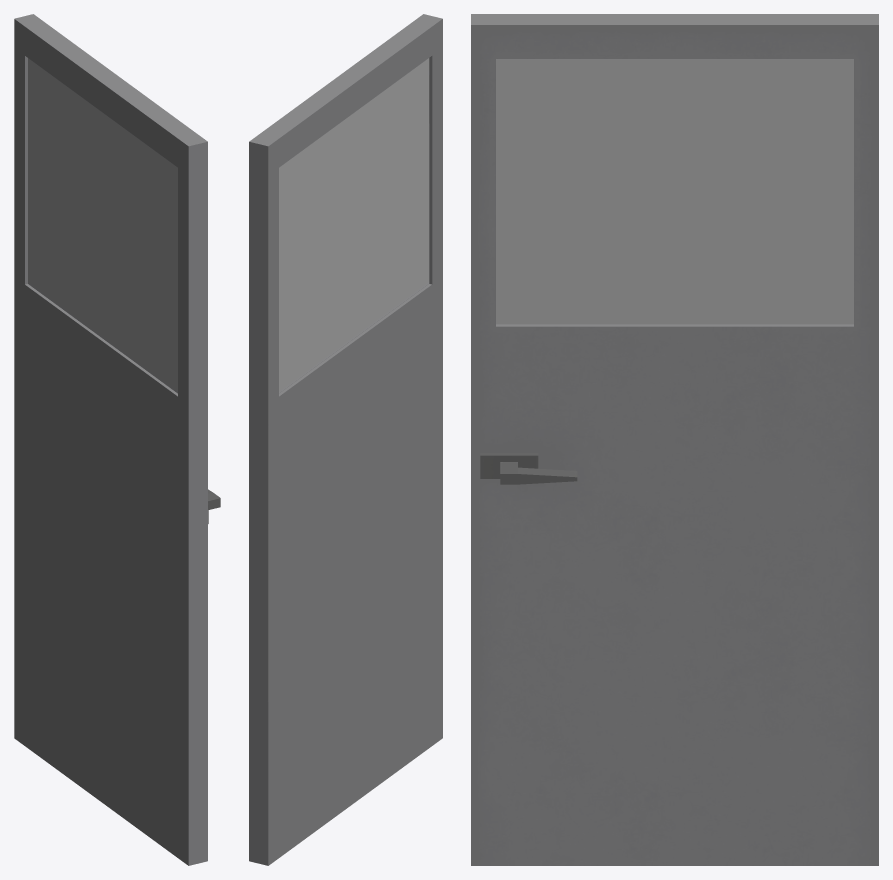
The model's file is door.fbx.
3 renders of one model, left to right at view 1: azimuth 30°, elevation 25°; view 2: azimuth 150°, elevation 25°; view 3: azimuth 270°, elevation 25°, orthographic. The views are drawn at different scales.
Visible parts, largest first — view 1: Door-material; view 2: Door-material; view 3: Door-material.
Boxes of the visible parts, bbox=[...] form: Door-material: bbox=[14, 14, 220, 865]; Door-material: bbox=[249, 14, 442, 865]; Door-material: bbox=[471, 14, 878, 865].
Bounding box in the file's own units: 2.37 × 36.5 × 16.04.
1 material, 1 textured.
